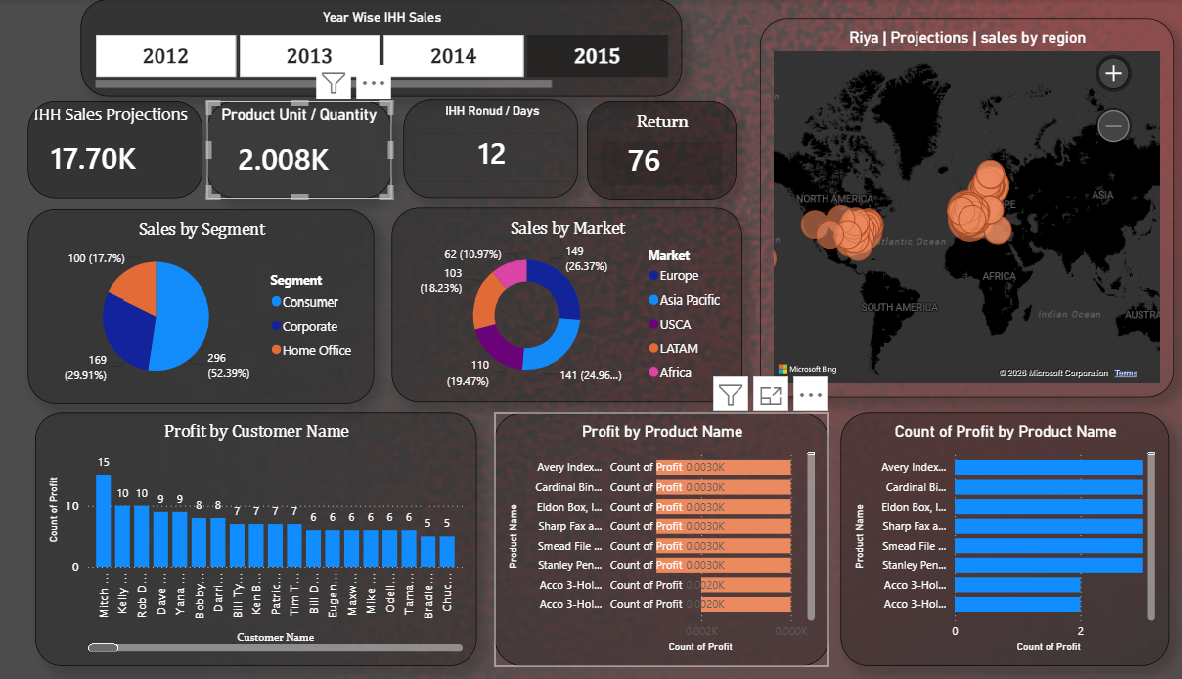

Layout of this report page (visuals, bound fields, positions):
{"tool":"powerbi","page":{"name":"Page 1","canvas":[1280,720],"ordinal":0},"visuals":[{"type":"advancedSlicerVisual","title":"Year Wise IHH Sales","fields":{"Values":["global_superstore.Ship Date.Variation.Date Hierarchy.Year"]},"box":[87.5,0,652.2,103.4],"z":0},{"type":"map","title":"Riya | Projections | sales by region","fields":{"Category":["global_superstore.Sales"],"Size":["CountNonNull(global_superstore.Sales)"]},"box":[824,20.7,448.6,400.8],"z":1000},{"type":"cardVisual","title":"IHH Sales Projections","fields":{"Data":["Sum(global_superstore.Shipping Cost)"]},"box":[30.2,108.2,189,103.4],"z":2000},{"type":"pieChart","title":"Sales by Segment","fields":{"Y":["CountNonNull(global_superstore.Sales)"],"Series":["global_superstore.Segment"]},"box":[30.2,222.7,375.4,205.2],"z":3000},{"type":"donutChart","title":"Sales by Market","fields":{"Y":["CountNonNull(global_superstore.Sales)"],"Category":["global_superstore.Market"]},"box":[424.7,221.1,380.2,205.2],"z":4000},{"type":"columnChart","title":"Profit by Customer Name","fields":{"Category":["global_superstore.Customer Name"],"Y":["CountNonNull(global_superstore.Profit)"]},"box":[38.2,437.4,478.8,268.8],"z":5000},{"type":"barChart","title":"Profit by Product Name","fields":{"Category":["global_superstore.Product Name"],"Y":["CountNonNull(global_superstore.Profit)"]},"box":[536,437.4,362.7,268.8],"z":6000},{"type":"barChart","fields":{"Category":["global_superstore.Product Name"],"Y":["CountNonNull(global_superstore.Profit)"]},"box":[911.4,437.4,356.3,268.8],"z":7000},{"type":"cardVisual","title":"Return","fields":{"Data":["Sum(global_superstore.Discount)"]},"box":[636.2,108.2,162.2,105],"z":8000},{"type":"cardVisual","title":"Product Unit / Quantity","fields":{"Data":["Sum(global_superstore.Quantity)"]},"box":[224.3,108.2,200.4,103.4],"z":9000},{"type":"cardVisual","title":"IHH Ronud / Days","fields":{"Data":["CountNonNull(global_superstore.Ship Date.Variation.Date Hierarchy.Day)"]},"box":[437.4,106.6,189.3,105],"z":10000}]}

Visuals, with their boxes in screenshot pixels (x1, y1, x2, y2), scaled from the page's 1280x720 canvas onto the 1182x679 screenshot:
"Year Wise IHH Sales" advancedSlicerVisual: crop(81, 0, 683, 98)
"Riya | Projections | sales by region" map: crop(761, 20, 1175, 397)
"IHH Sales Projections" cardVisual: crop(28, 102, 202, 200)
"Sales by Segment" pieChart: crop(28, 210, 375, 404)
"Sales by Market" donutChart: crop(392, 209, 743, 402)
"Profit by Customer Name" columnChart: crop(35, 412, 477, 666)
"Profit by Product Name" barChart: crop(495, 412, 830, 666)
barChart - global_superstore.Product Name x CountNonNull(global_superstore.Profit): crop(842, 412, 1171, 666)
"Return" cardVisual: crop(587, 102, 737, 201)
"Product Unit / Quantity" cardVisual: crop(207, 102, 392, 200)
"IHH Ronud / Days" cardVisual: crop(404, 101, 579, 200)
